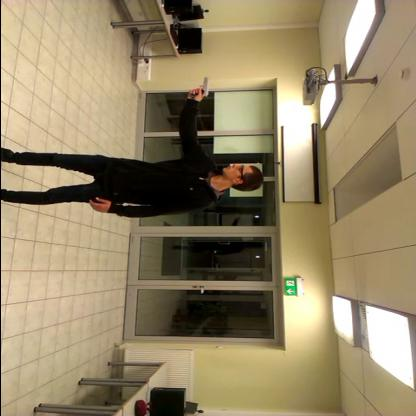Pistol: (186, 76, 216, 100)
